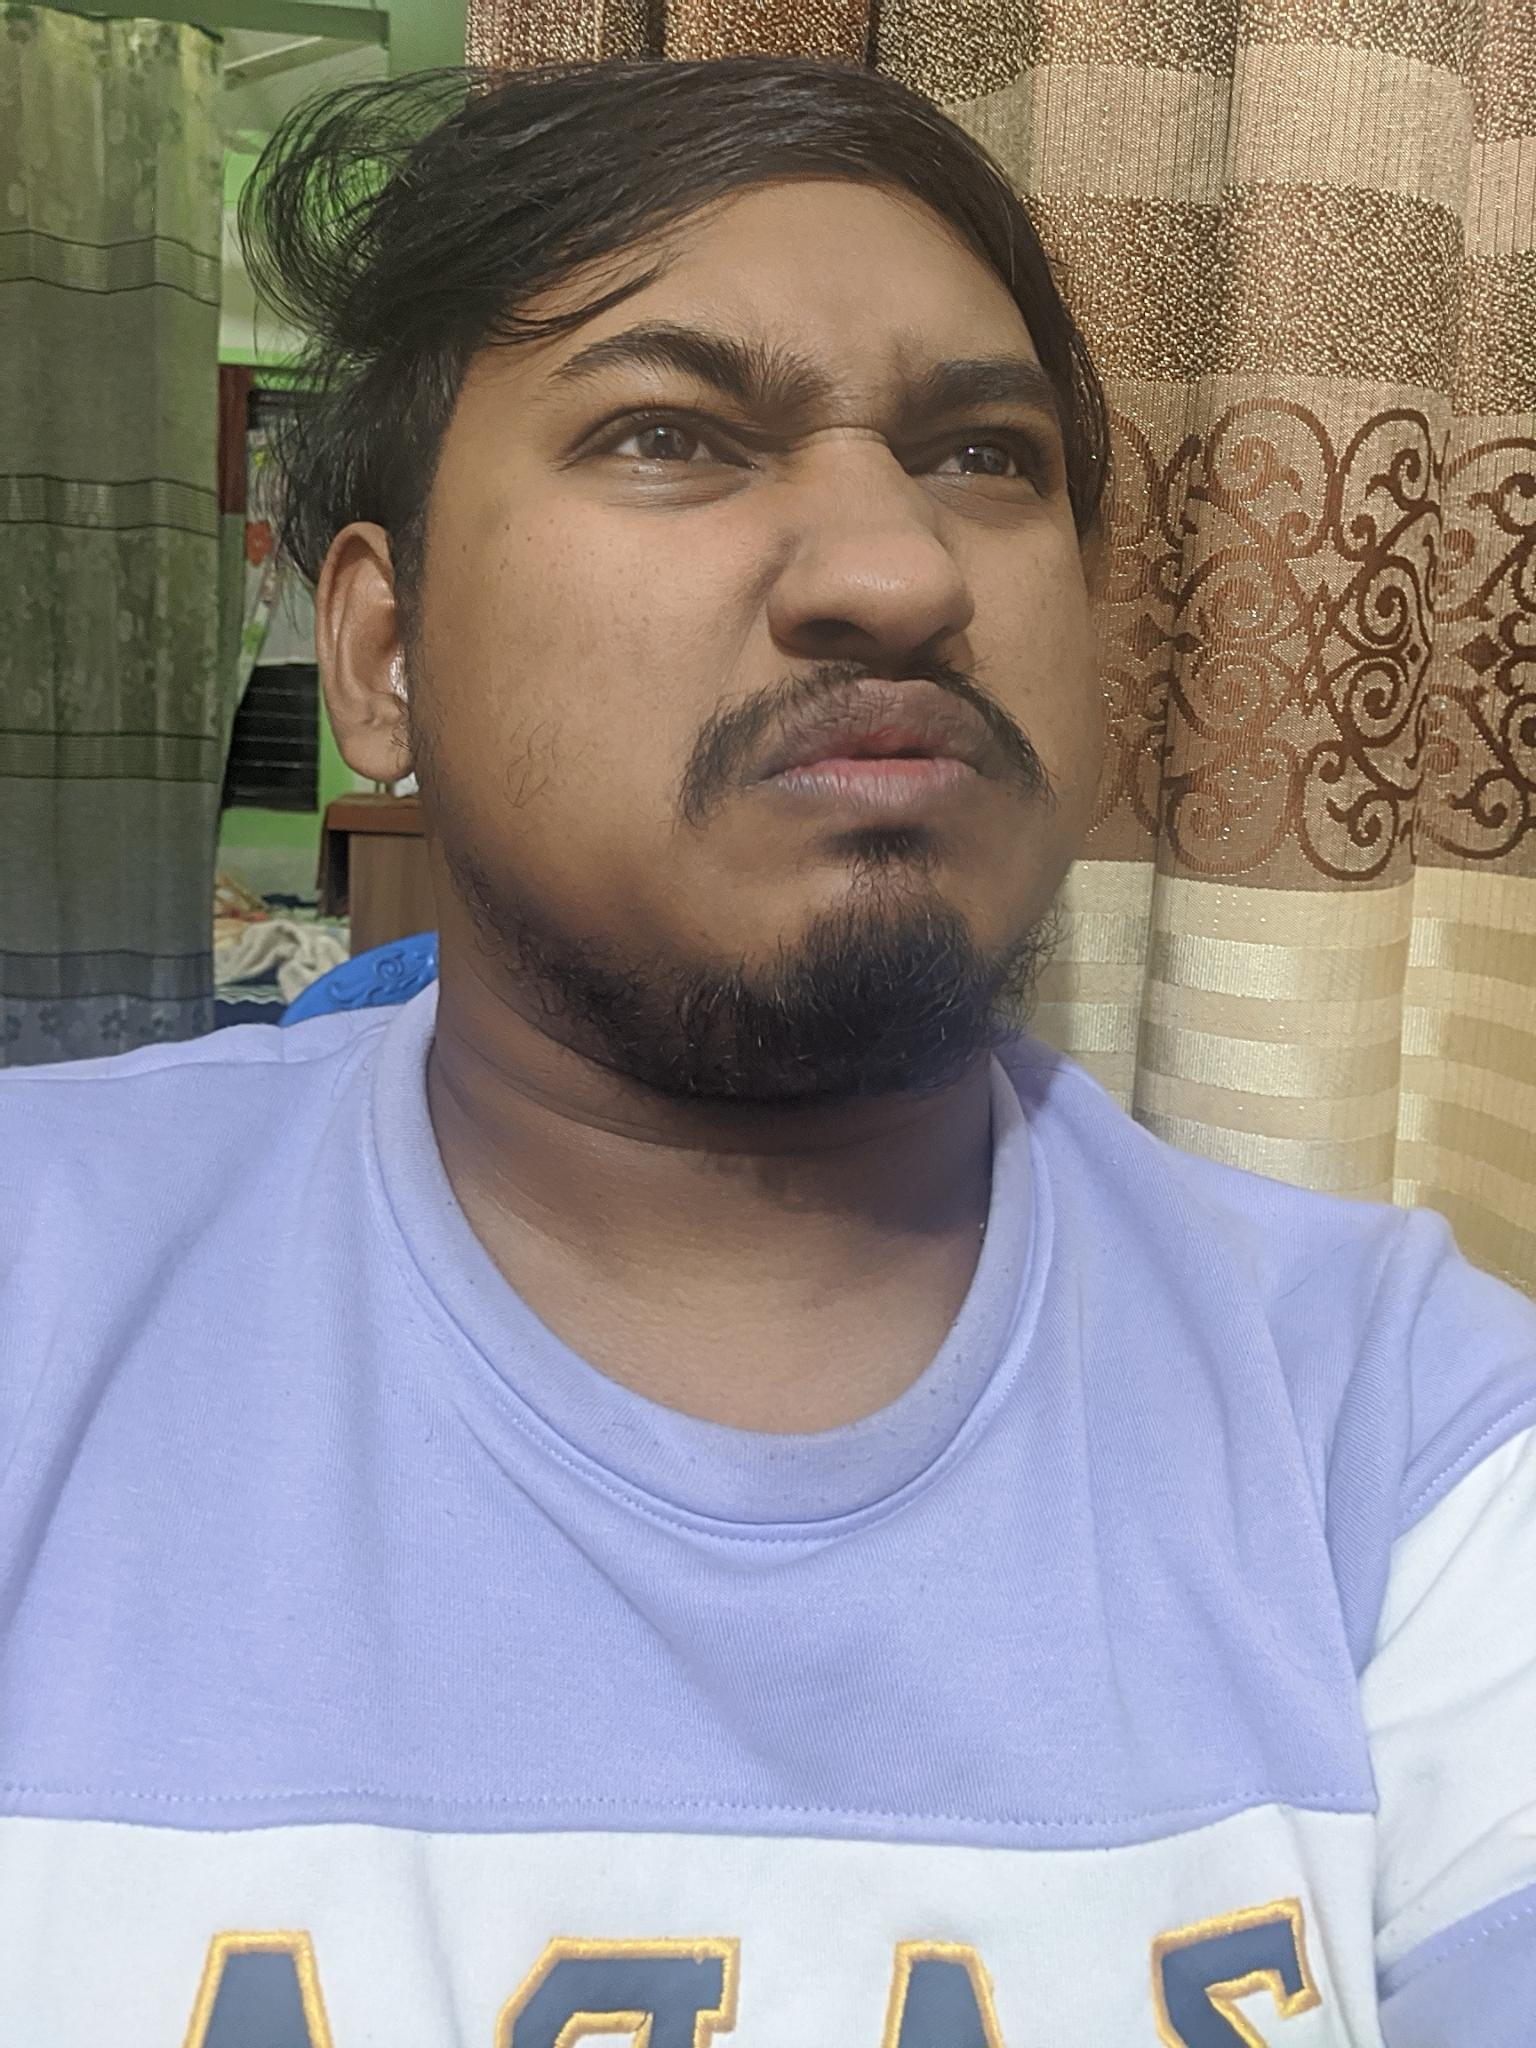Disgust: (508, 237, 1129, 1042)
